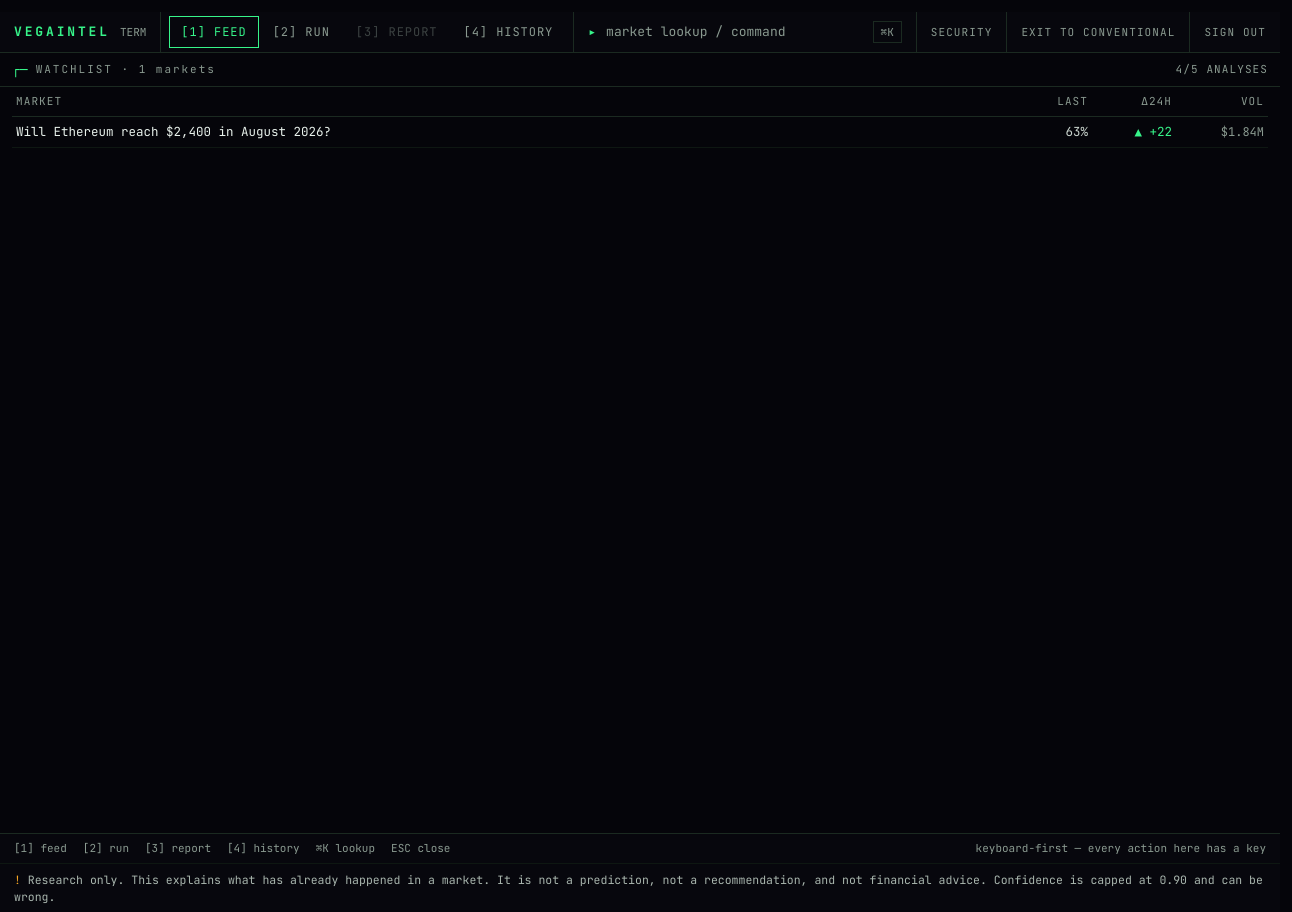
TerminalPage — usage and the quota wall (UX-03 #11, #12, #13) › tells a spent allowance apart from a broken service
The width and height of the screenshot is (1292, 912).
Click the text "Will Ethereum reach $2,400 in August 2026?": (174,131) [16,122,331,140]
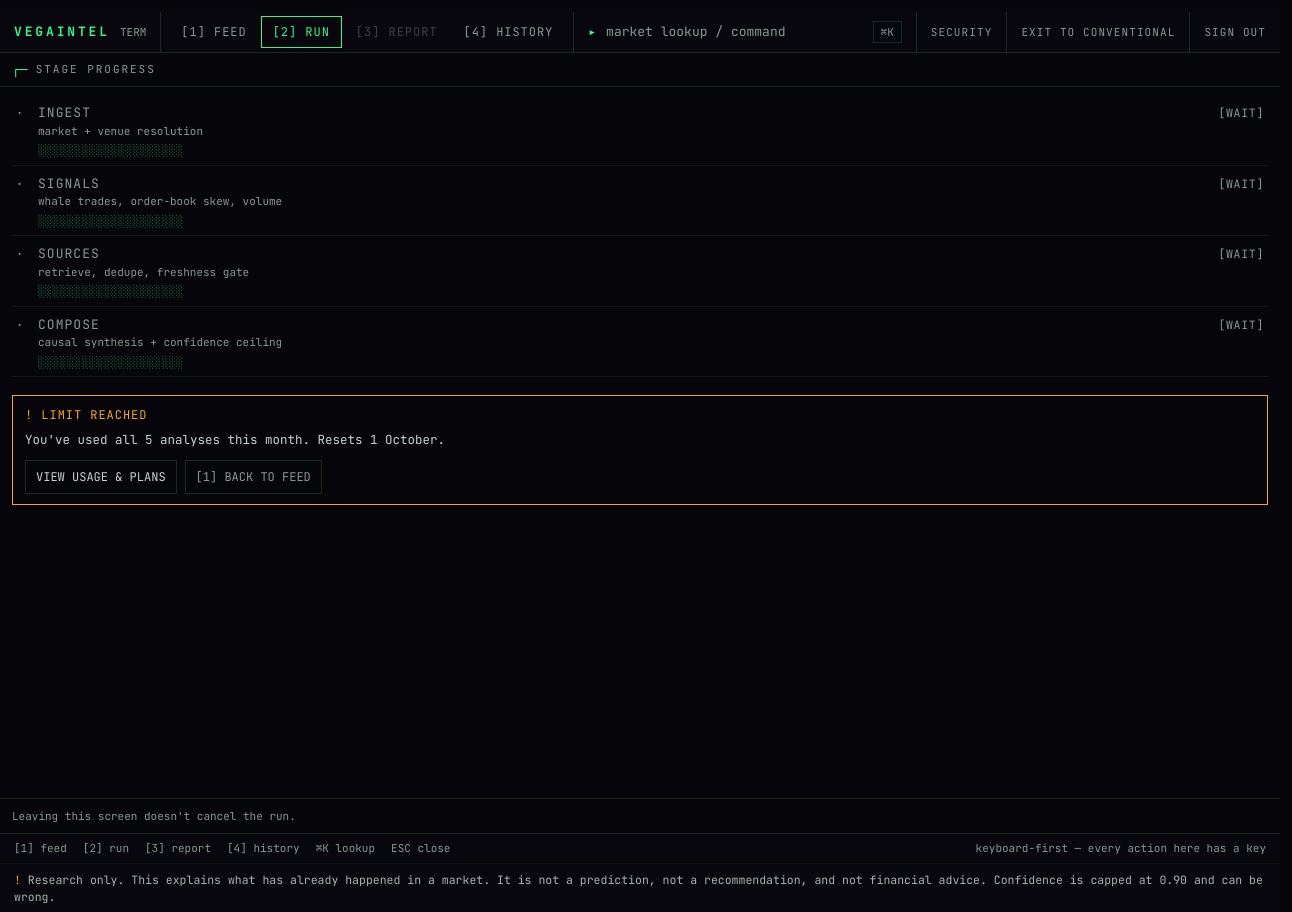
Now the text "! LIMIT REACHED" is shown, box [25,407,147,423]
Now the text "You've used all 5 analyses this month. Resets 1 October." is shown, box [25,431,445,448]
